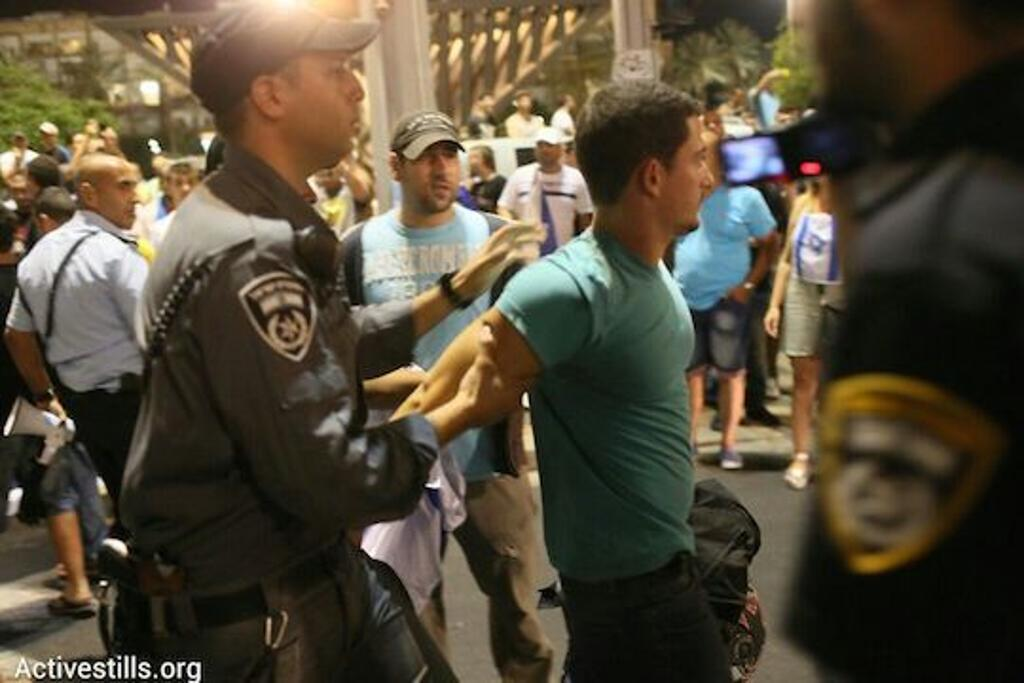face: (296, 41, 363, 153), (666, 121, 717, 228), (405, 141, 457, 211), (96, 169, 140, 230), (169, 172, 198, 207), (12, 178, 34, 213), (538, 138, 560, 164), (470, 150, 490, 177), (317, 161, 337, 185), (27, 170, 42, 199), (714, 106, 731, 126), (91, 140, 107, 157), (74, 136, 88, 154), (566, 146, 577, 165), (777, 114, 790, 130), (519, 95, 531, 108), (481, 96, 492, 110), (564, 95, 574, 106)
